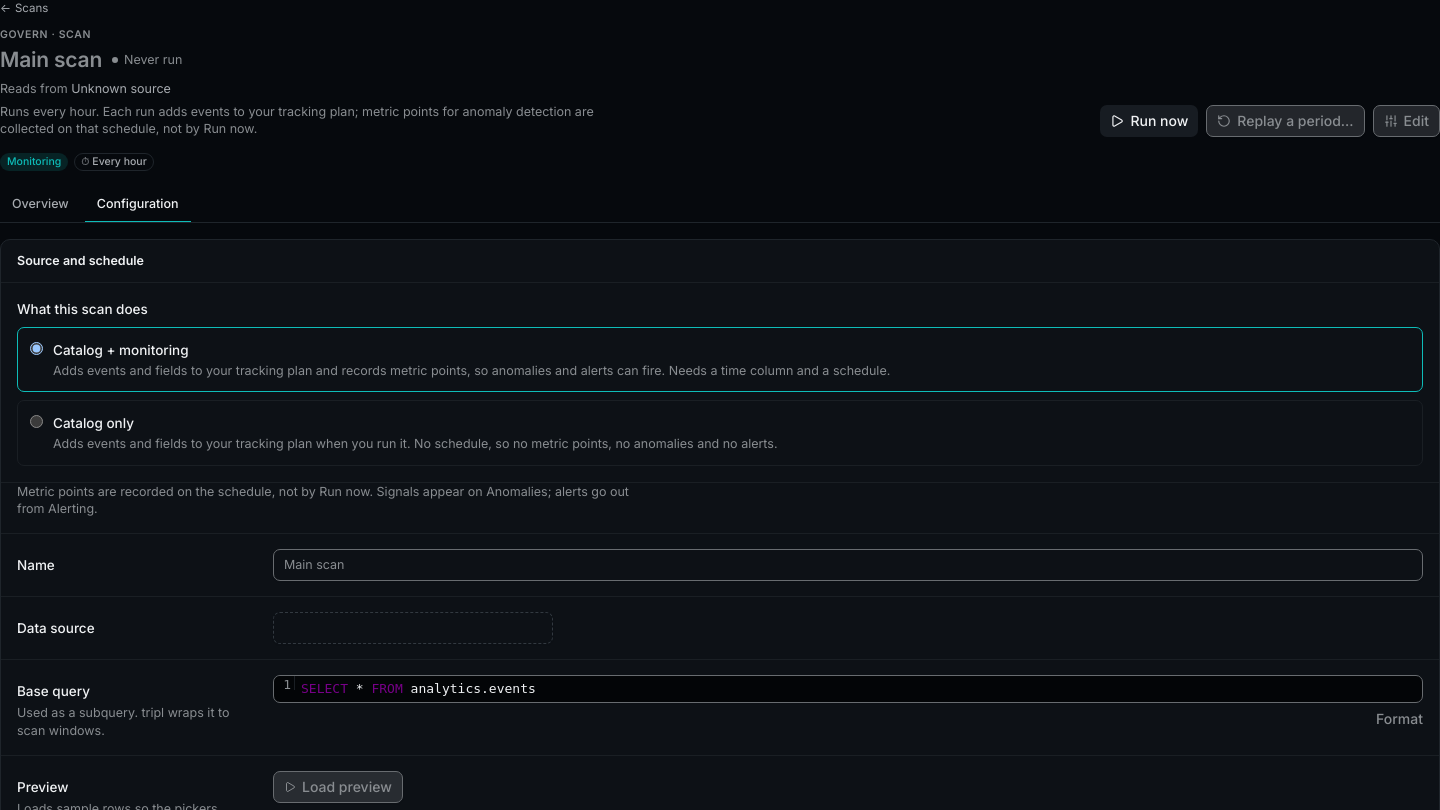
Test case: ScanConfigDetail — unsaved configuration edits (DATA-12) › has one Save for the whole form, and says Saved. only until the next edit (DATA-14)
Expected: the button "Save changes" is not shown
Replace the text in the field labelled "Name" with "Renamed" at [848, 565], box [273,549,1423,581]
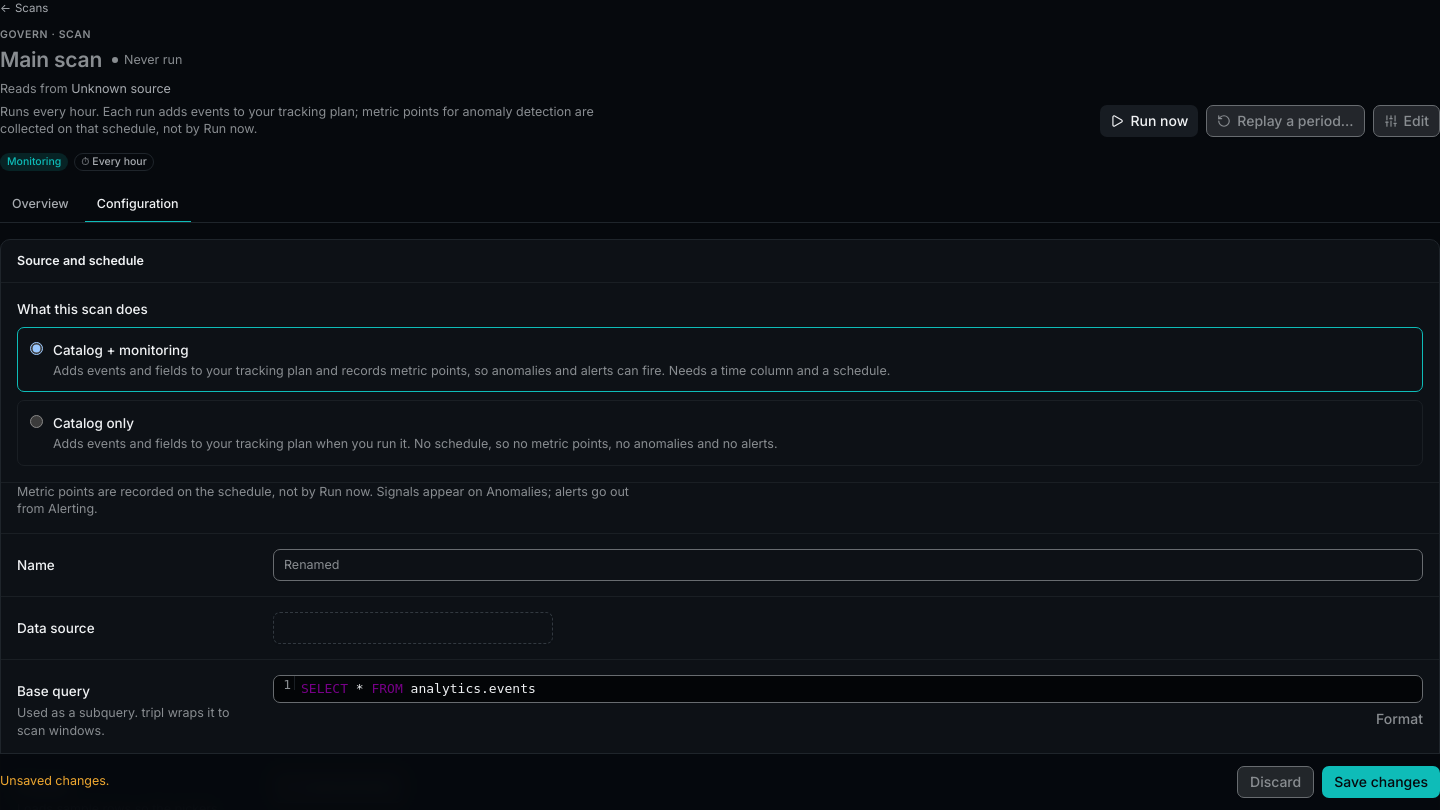
Expected: the number of buttons "Save changes" is 1
Click the button "Save changes" at [1381, 782], box [1322,766,1439,798]
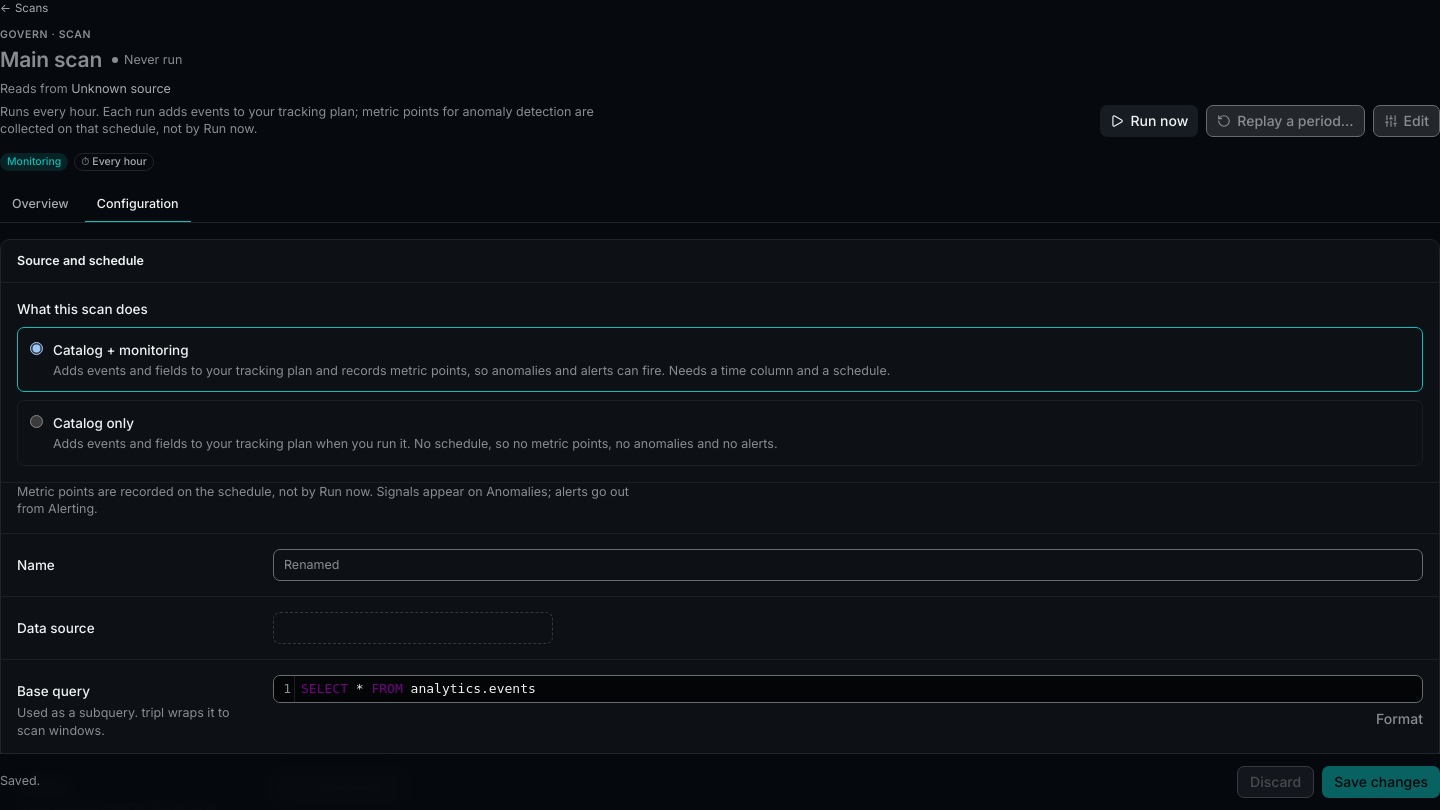
Expected: the text "Saved." is shown, [0,774,40,789]
Replace the text in the field labelled "Name" with "Renamed again" at [848, 565], box [273,549,1423,581]
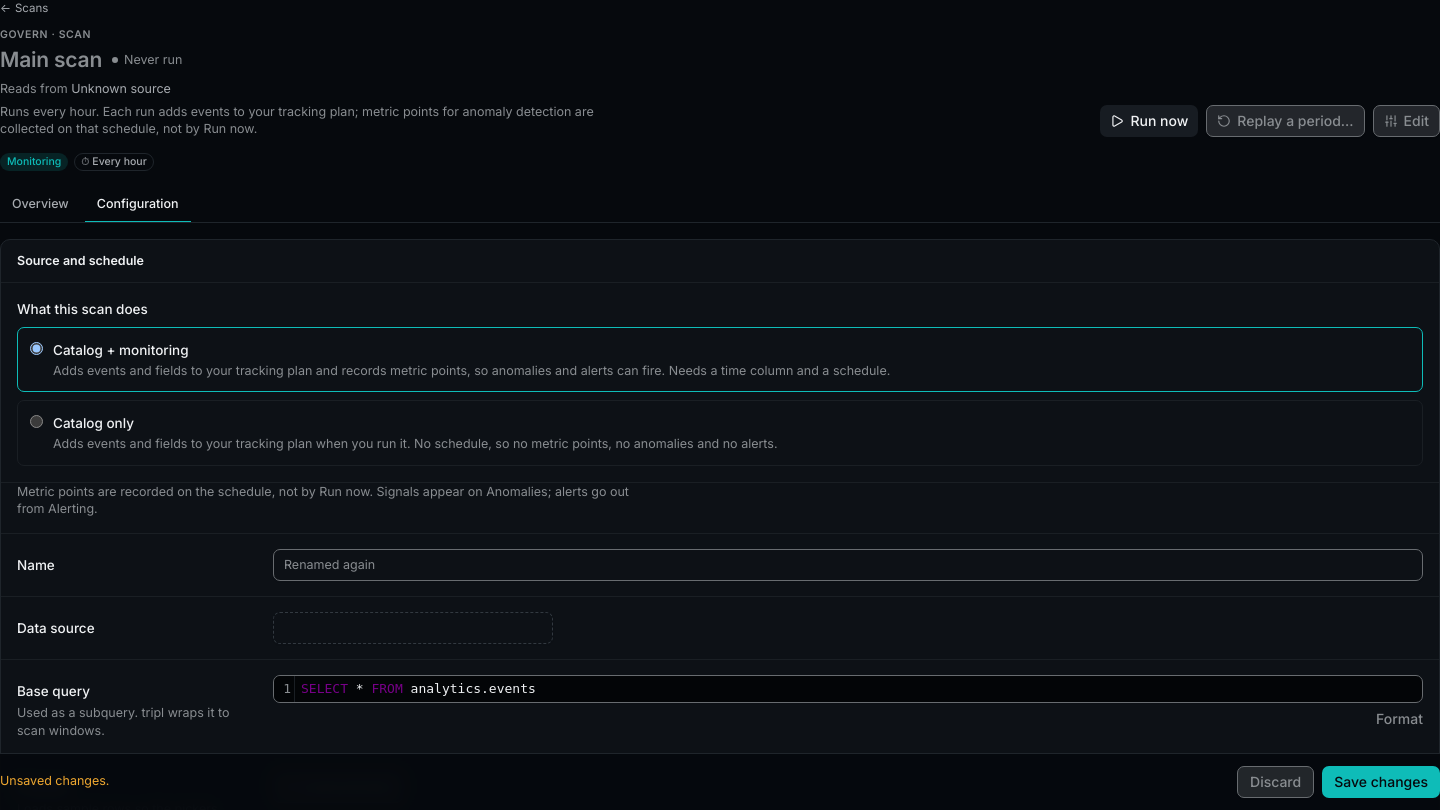
Expected: the text "Saved." is not shown
Expected: the text "Unsaved changes." is shown, [0,774,110,789]
